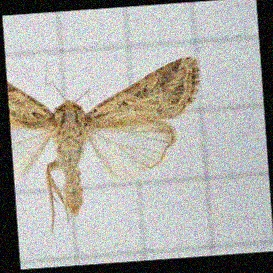Spodoptera litura: (11, 57, 206, 229)
